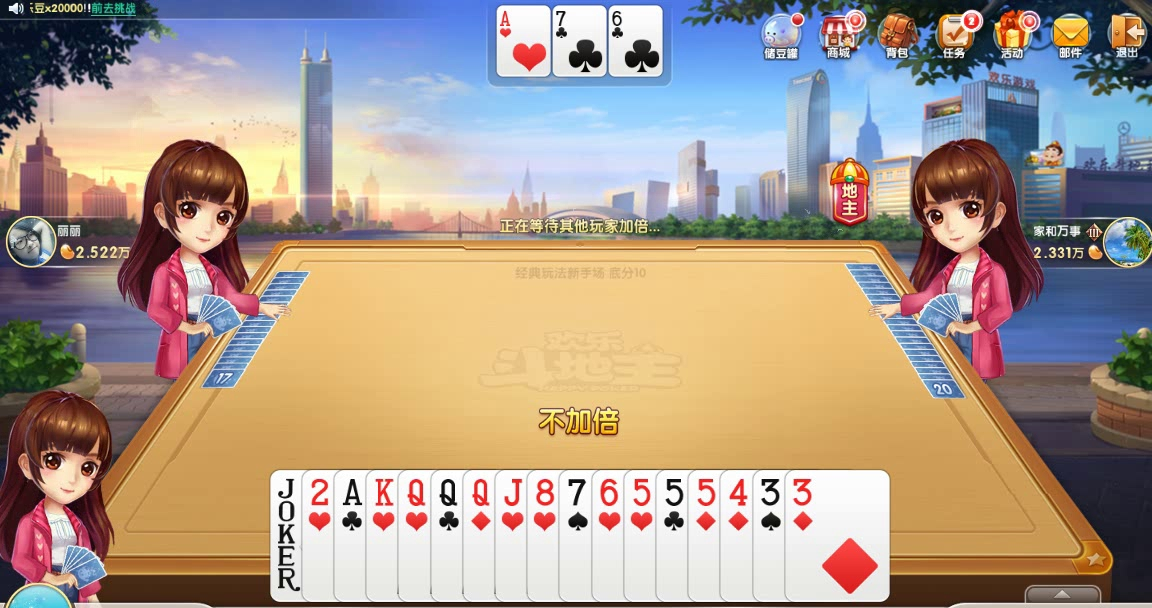11~3: (493, 468, 599, 602)
12~1: (461, 468, 567, 602)
12~2: (430, 468, 536, 602)
12~3: (396, 468, 502, 602)
13~3: (364, 468, 470, 602)
14~2: (332, 469, 438, 603)
14~3: (495, 1, 550, 78)
15~3: (299, 469, 405, 603)
17~3: (270, 469, 376, 603)
3~1: (784, 470, 890, 604)
3~4: (751, 469, 857, 603)
4~1: (718, 469, 824, 603)
5~1: (686, 469, 792, 603)
5~2: (655, 468, 761, 602)
5~3: (623, 468, 729, 602)
6~2: (607, 2, 662, 79)
6~3: (591, 468, 697, 602)
7~2: (551, 2, 606, 79)
7~4: (556, 468, 662, 602)
8~3: (526, 468, 632, 602)
